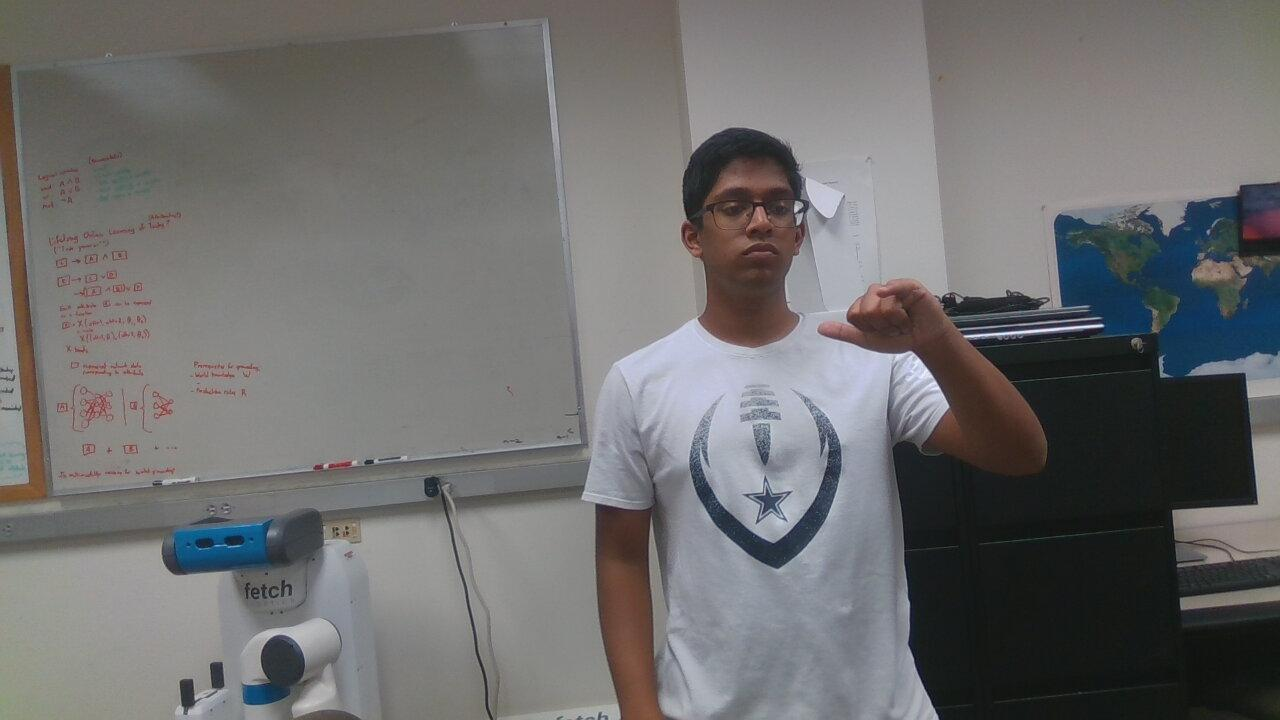hands: (804, 251, 958, 393)
